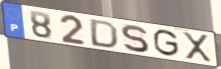2: (59, 14, 88, 47)
8: (28, 11, 54, 40)
D: (89, 18, 120, 50)
G: (153, 29, 181, 59)
S: (119, 24, 151, 54)
X: (181, 31, 214, 63)
